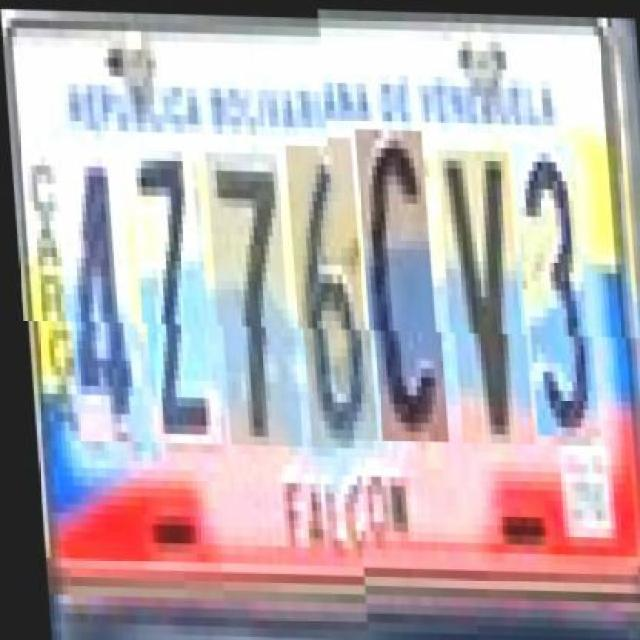3: (514, 149, 594, 443)
4: (55, 148, 140, 442)
6: (288, 144, 372, 447)
7: (208, 150, 295, 444)
c: (359, 136, 443, 450)
v: (440, 157, 528, 451)
z: (132, 149, 216, 443)
